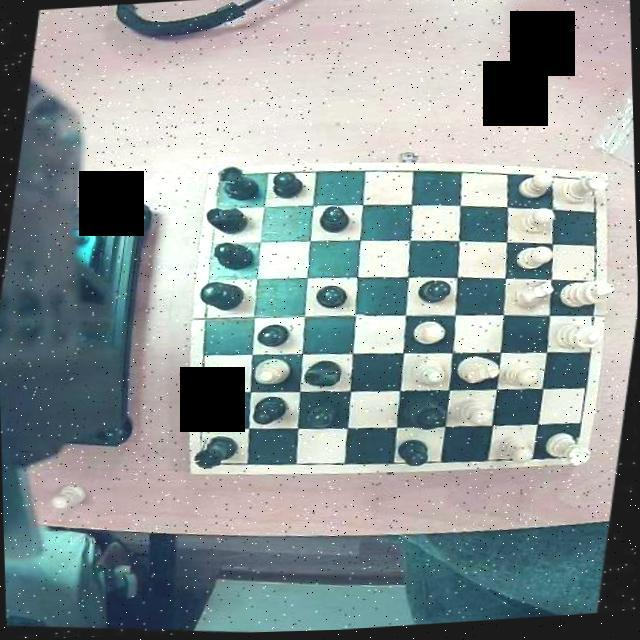chess-table-corners: (190, 438, 227, 473), (554, 437, 588, 470), (210, 165, 242, 200), (574, 172, 608, 200)
